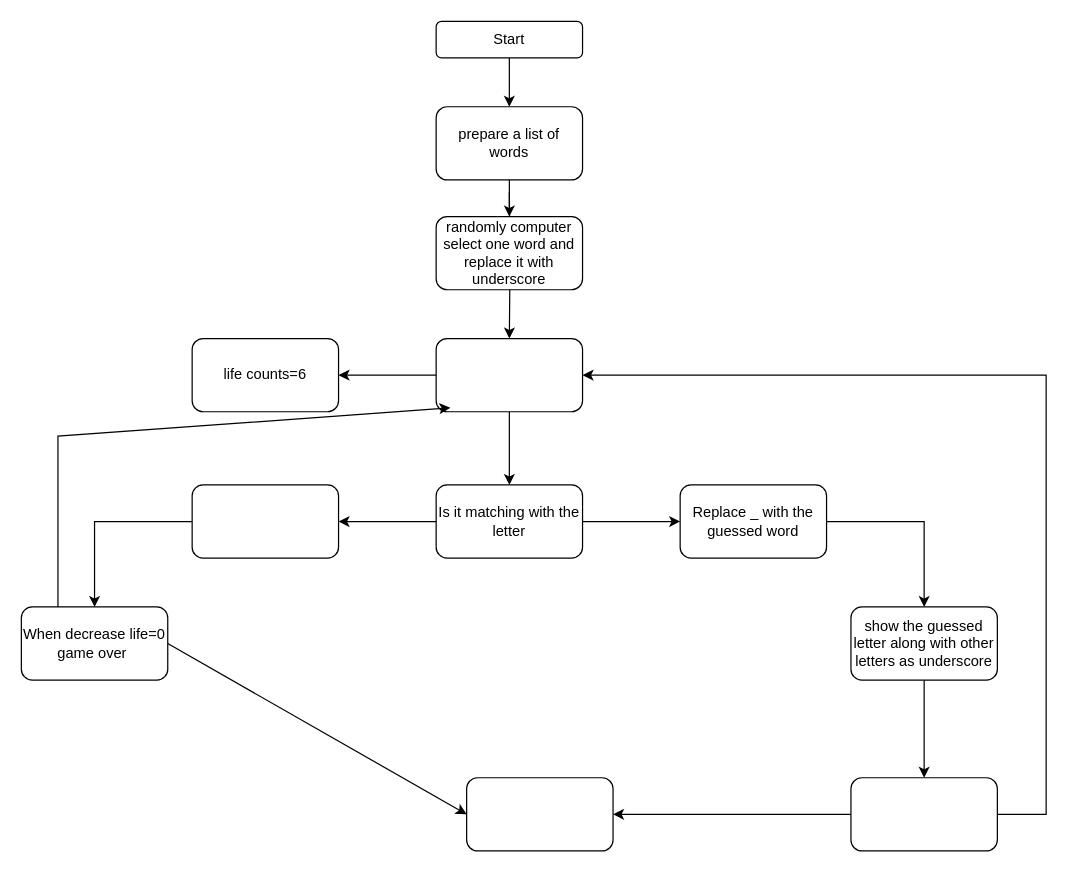
Some shapes in this 1077 by 872 pixel diagram are drawn without their labels. Here are the shapes that lost their labels. From the top down, the centre of each, then its label:
(509,374): Ask user input
(265,521): decrease life counts and Start drawing the hangman
(539,814): game over
(923,814): Are all the underscore removed
